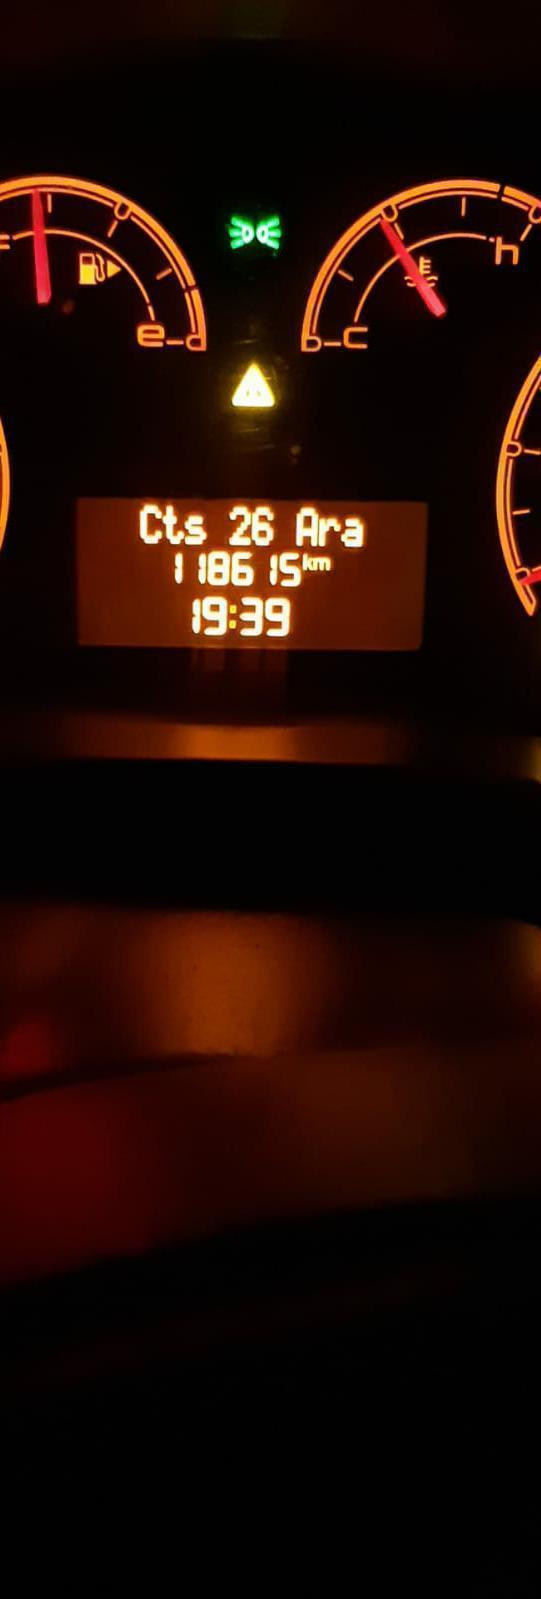1: (190, 594, 201, 635), (173, 550, 184, 588), (266, 551, 277, 587), (197, 550, 207, 586)
2: (228, 504, 252, 546)
3: (240, 595, 263, 638)
5: (279, 550, 301, 588)
6: (253, 504, 274, 547), (231, 550, 254, 587)
8: (208, 549, 229, 585)
9: (265, 595, 291, 638), (201, 595, 227, 637)
X: (137, 501, 163, 544), (162, 503, 183, 546), (294, 505, 317, 546), (185, 511, 206, 545), (318, 515, 340, 546), (344, 515, 364, 547), (313, 554, 330, 572), (301, 552, 314, 571), (229, 601, 237, 631)
odometer: (67, 495, 431, 648)
